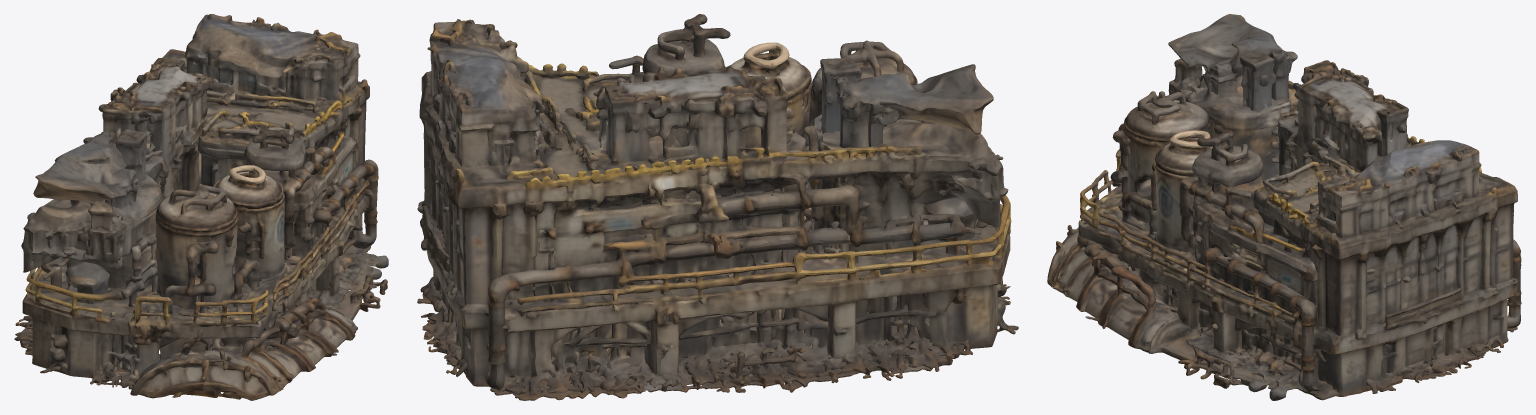
Rendered from purifier_ruin.glb.
The picture shows the model from 3 angles, left to right: view 1: azimuth 30°, elevation 25°; view 2: azimuth 150°, elevation 25°; view 3: azimuth 270°, elevation 25°; orthographic projection. The views are drawn at different scales.
Parts seen in each view (by area): view 1: world; view 2: world; view 3: world.
Part boxes in pixels (left/top/right/bottom): world: left=14, top=14, right=388, bottom=400; world: left=417, top=14, right=1018, bottom=400; world: left=1047, top=14, right=1521, bottom=400.
Size of the model in its own units: 25 by 12.54 by 25.02.
Materials: 1 (1 with a texture image).
